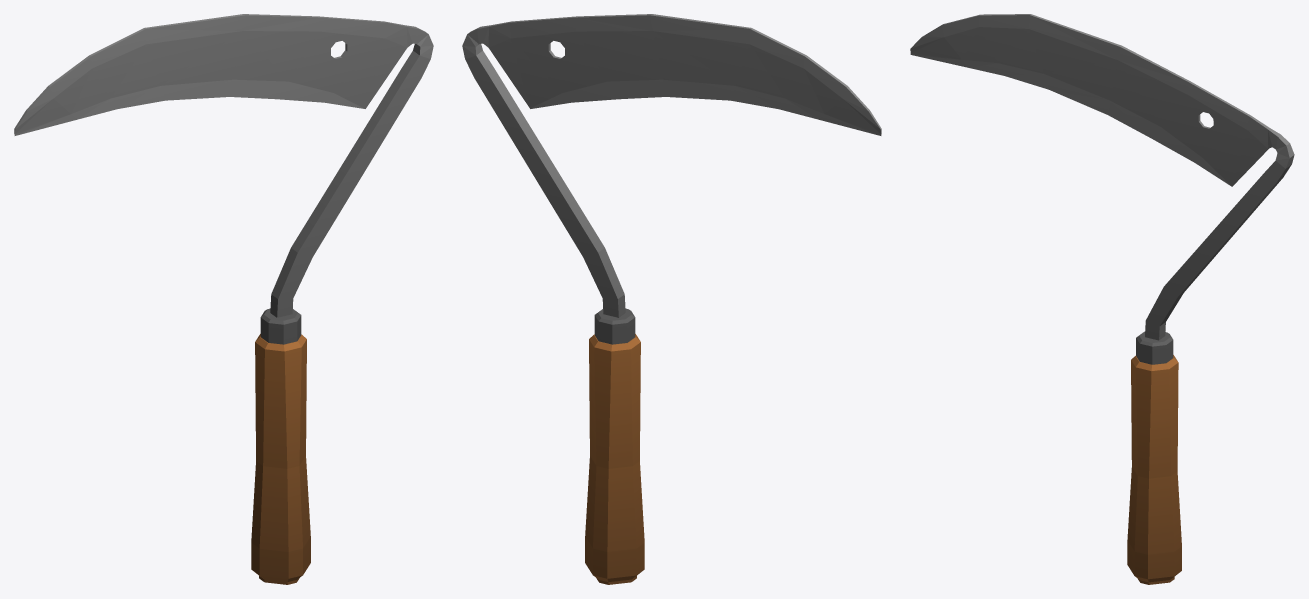
The model's file is Tool_Hand_Scythe_02.obj.
The picture shows the model from 3 angles, left to right: view 1: azimuth 30°, elevation 25°; view 2: azimuth 150°, elevation 25°; view 3: azimuth 330°, elevation 25°; orthographic projection. The views are drawn at different scales.
Parts seen in each view (by area): view 1: Tool_Hand_Scythe_02; view 2: Tool_Hand_Scythe_02; view 3: Tool_Hand_Scythe_02.
Part boxes in pixels (x1=…): Tool_Hand_Scythe_02: x1=14, y1=14, x2=433, y2=584; Tool_Hand_Scythe_02: x1=462, y1=14, x2=881, y2=584; Tool_Hand_Scythe_02: x1=910, y1=14, x2=1294, y2=584.
Size of the model in its own units: 0.3833 by 0.5104 by 0.0471.
1 material, 1 textured.
